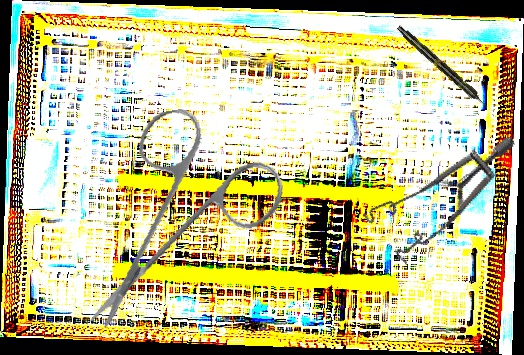Handpiece: (394, 23, 492, 112)
Iris Scissors: (58, 95, 302, 330)
Speculum: (351, 94, 517, 285)
